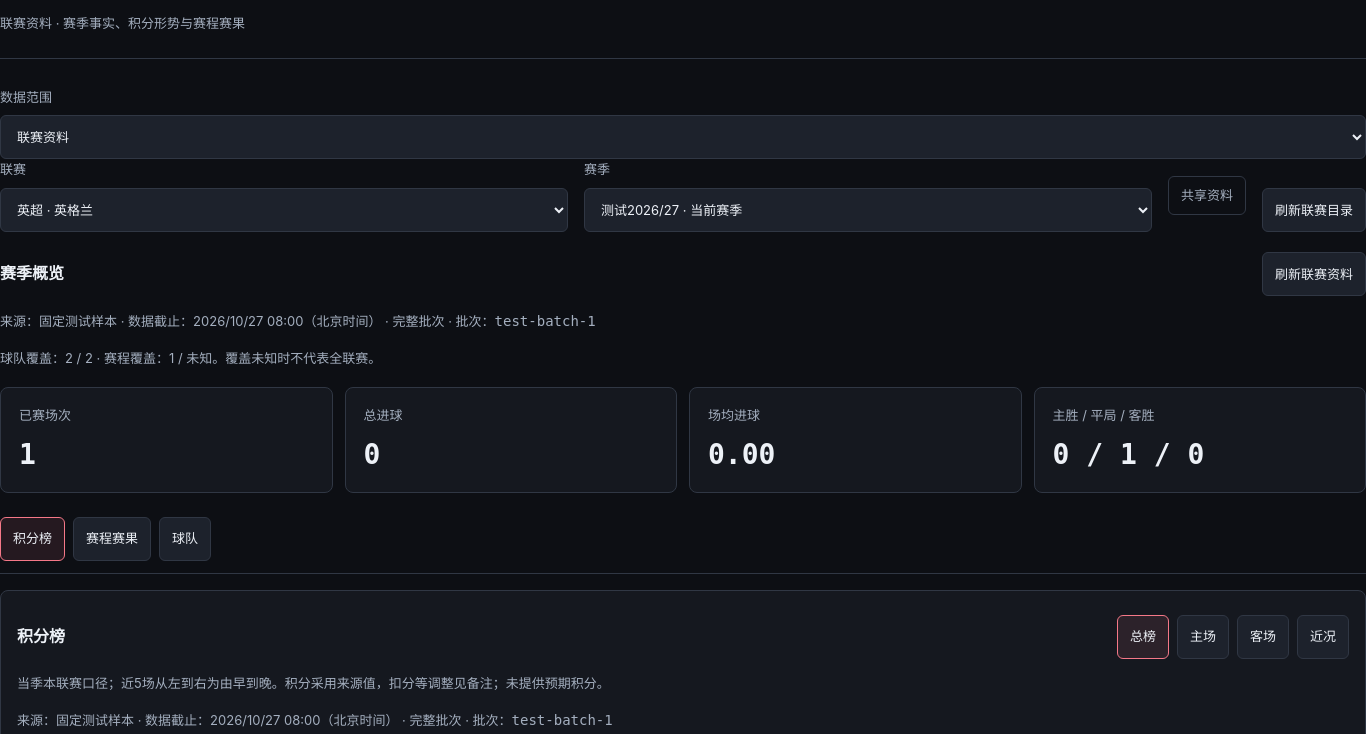
Test: LeagueCenter integration (isolated fixed samples only) › rejects fixture responses from a different published batch
The width and height of the screenshot is (1366, 734).
Click the button "赛程赛果": (112, 539) [73,517,151,561]
(page scrolled)
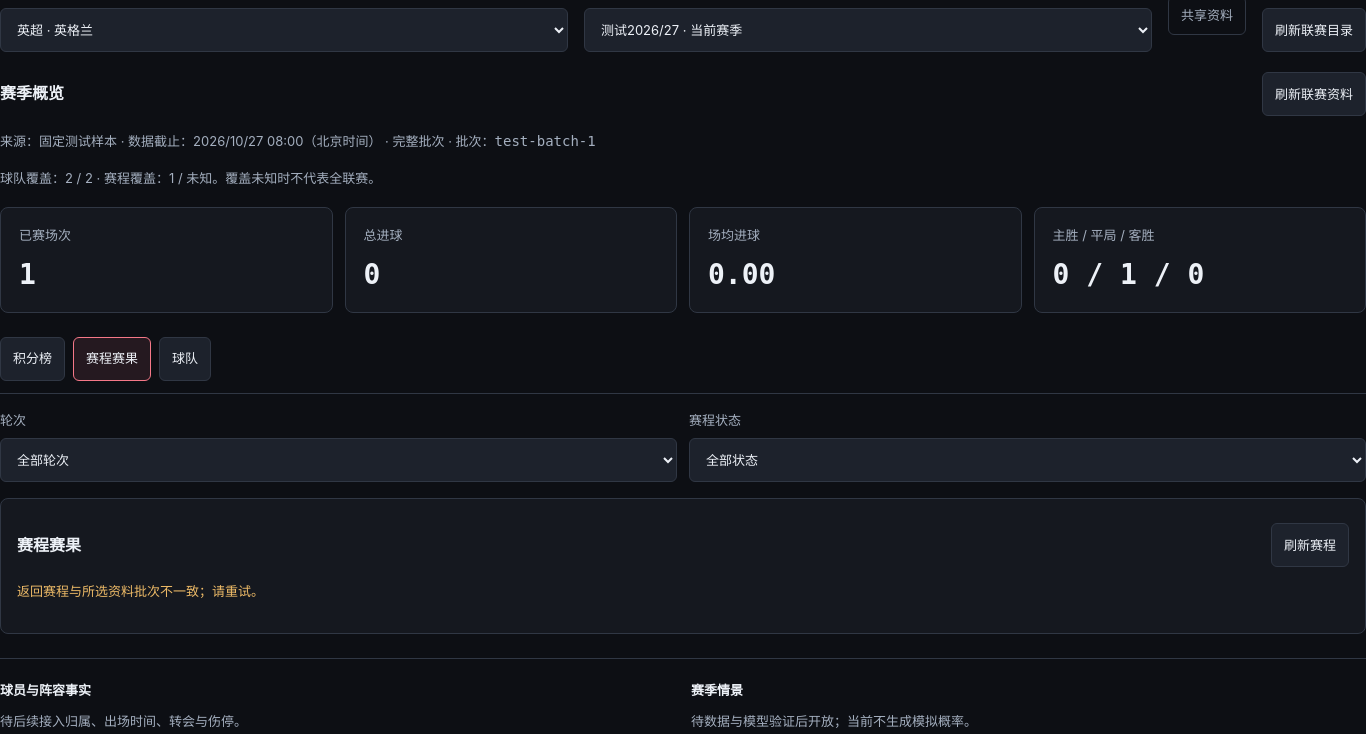
Now the message shows "返回赛程与所选资料批次不一致", box [17,584,199,600]
